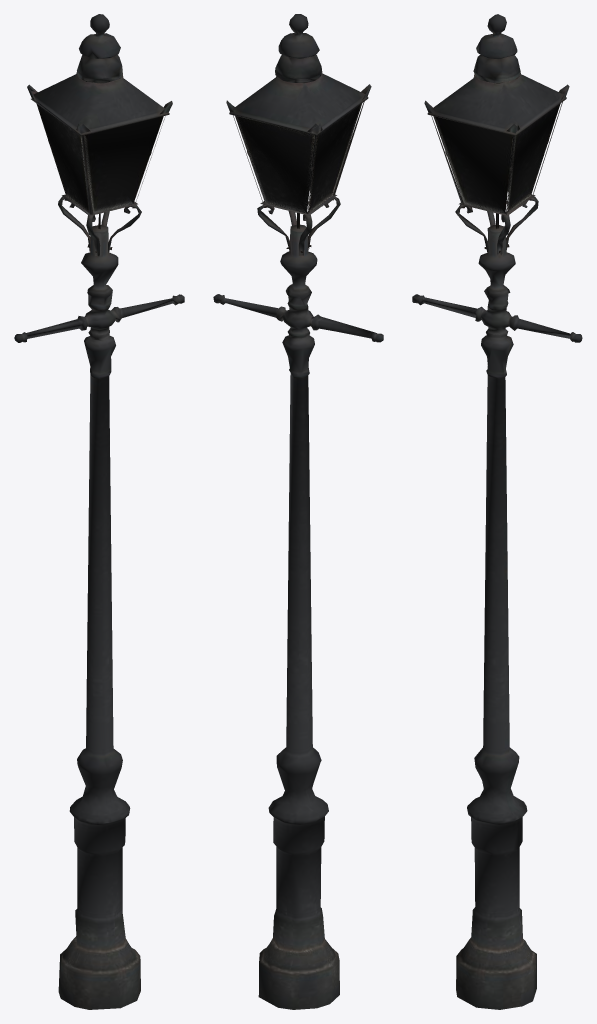
Rendered from street_lamp_01.glb.
3 renders of one model, left to right at view 1: azimuth 30°, elevation 25°; view 2: azimuth 150°, elevation 25°; view 3: azimuth 330°, elevation 25°, orthographic.
Visible parts, largest first — view 1: street_lamp_01; view 2: street_lamp_01; view 3: street_lamp_01.
Boxes of the visible parts, left/top/right/bottom form: street_lamp_01: left=14, top=14, right=184, bottom=1009; street_lamp_01: left=213, top=14, right=383, bottom=1009; street_lamp_01: left=412, top=14, right=582, bottom=1009.
Size of the model in its own units: 0.7022 by 3.87 by 0.3862.
2 materials, 2 textured.
